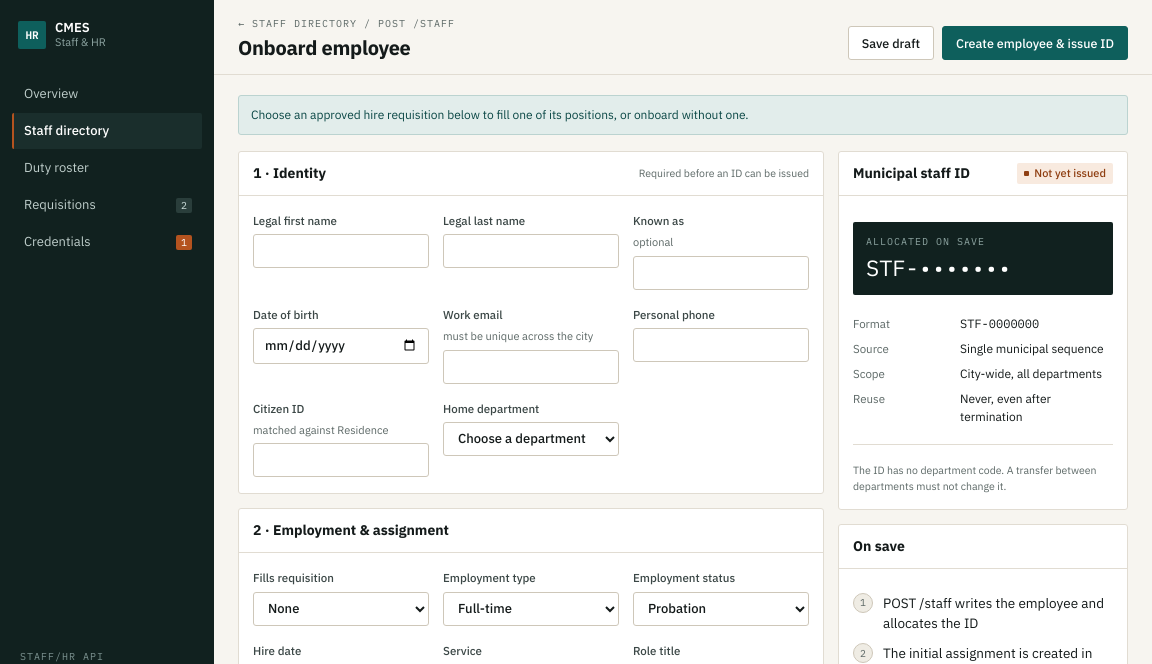
Scenario: CMES Staff & HR frontend › shows the 409 for a work email that is already in use
In the field labelled "Legal first name": (341, 251) [253, 234, 429, 268], type "Des"
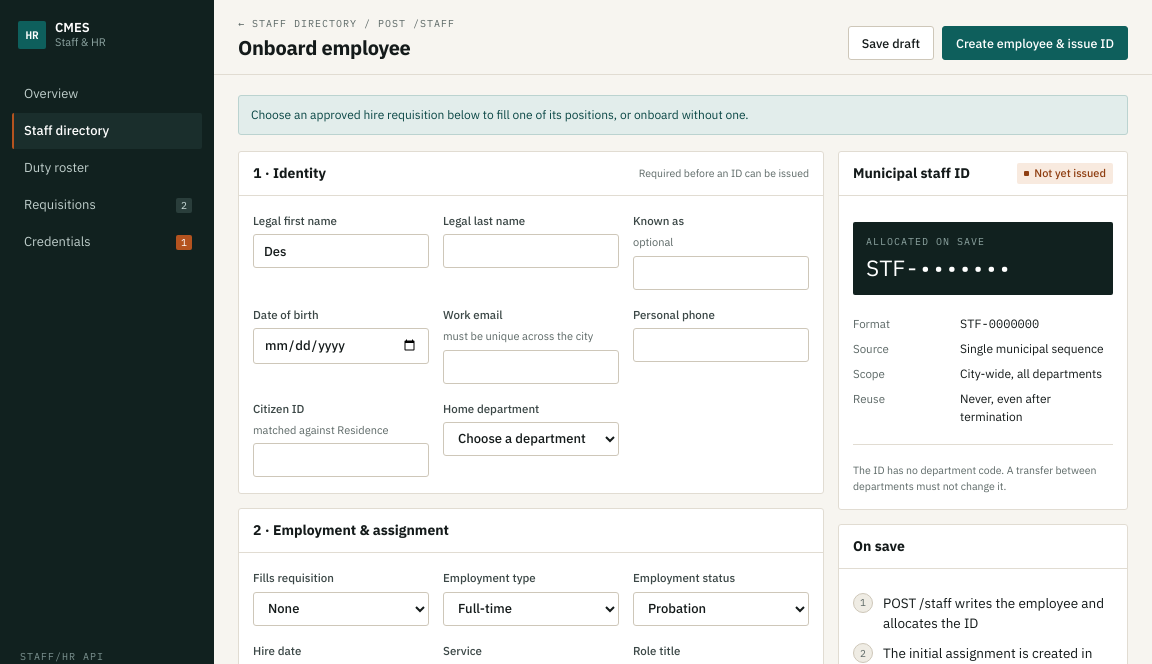
In the field labelled "Legal last name": (531, 251) [443, 234, 619, 268], type "Again"
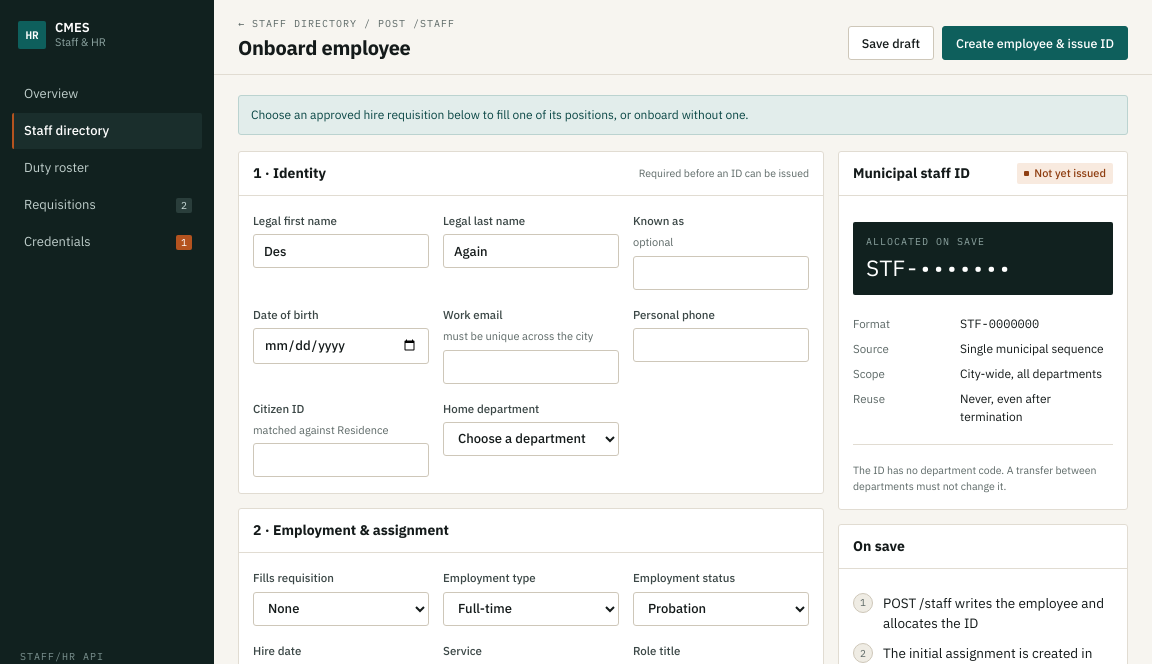
In the date field labelled "Date of birth": (341, 346) [253, 328, 429, 364], type "1990-01-01"
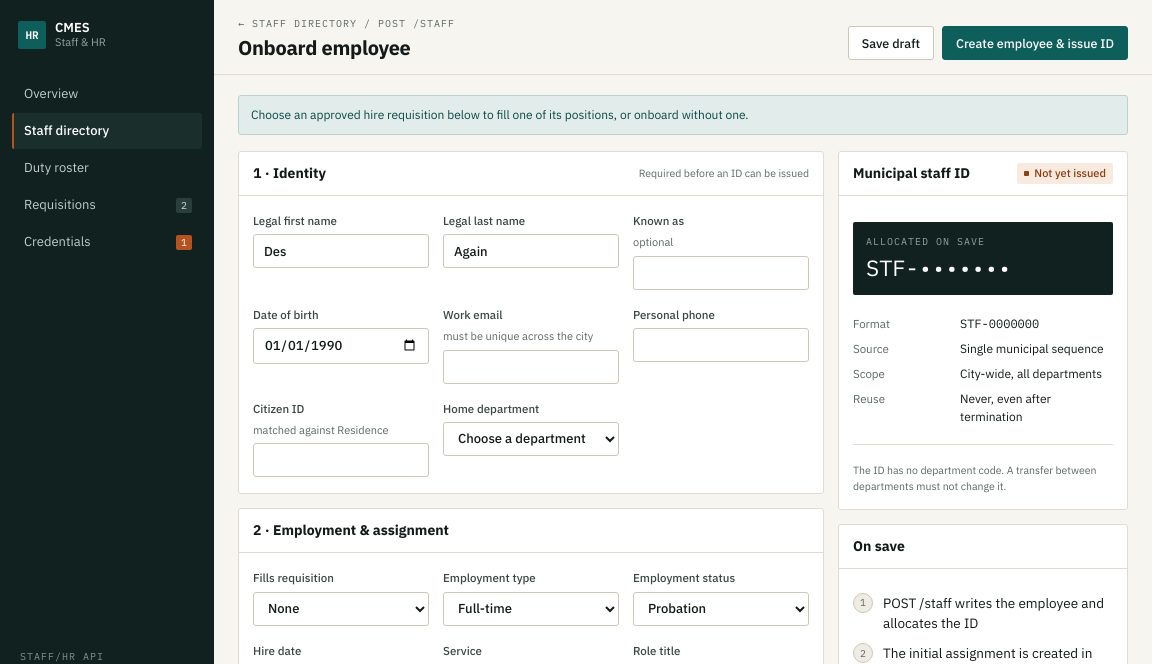
In the field labelled "Work email": (531, 366) [443, 350, 619, 384], type "des@cmes.example"
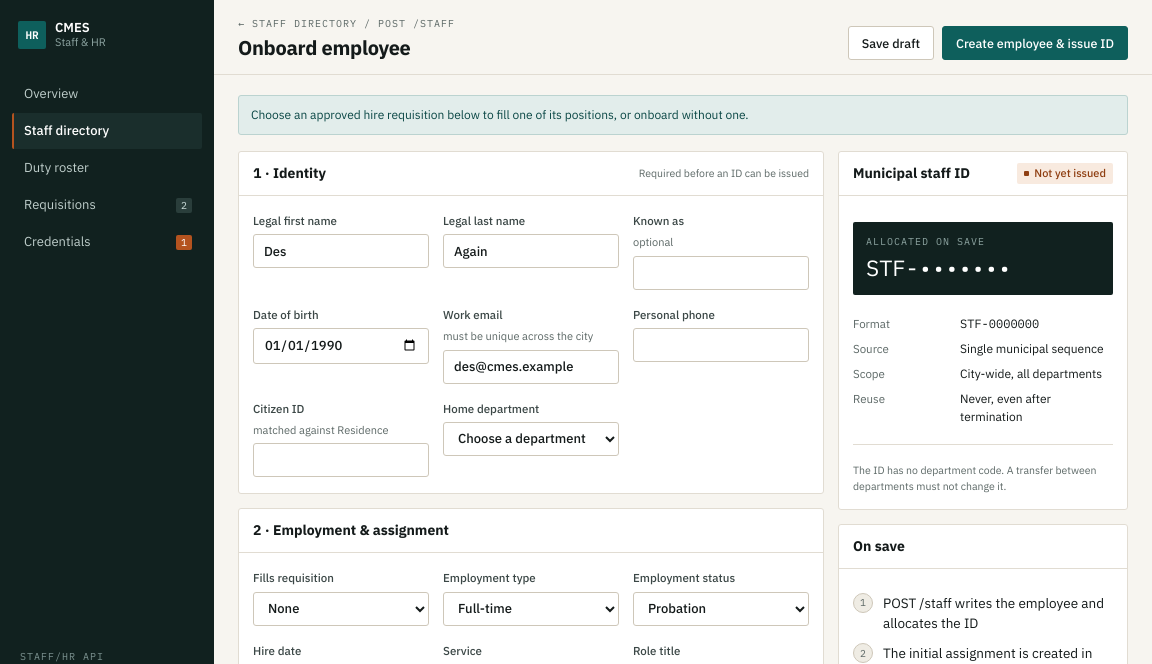
Select "Emergency Services" in the dropdown labelled "Home department": (531, 439) [443, 422, 619, 456]
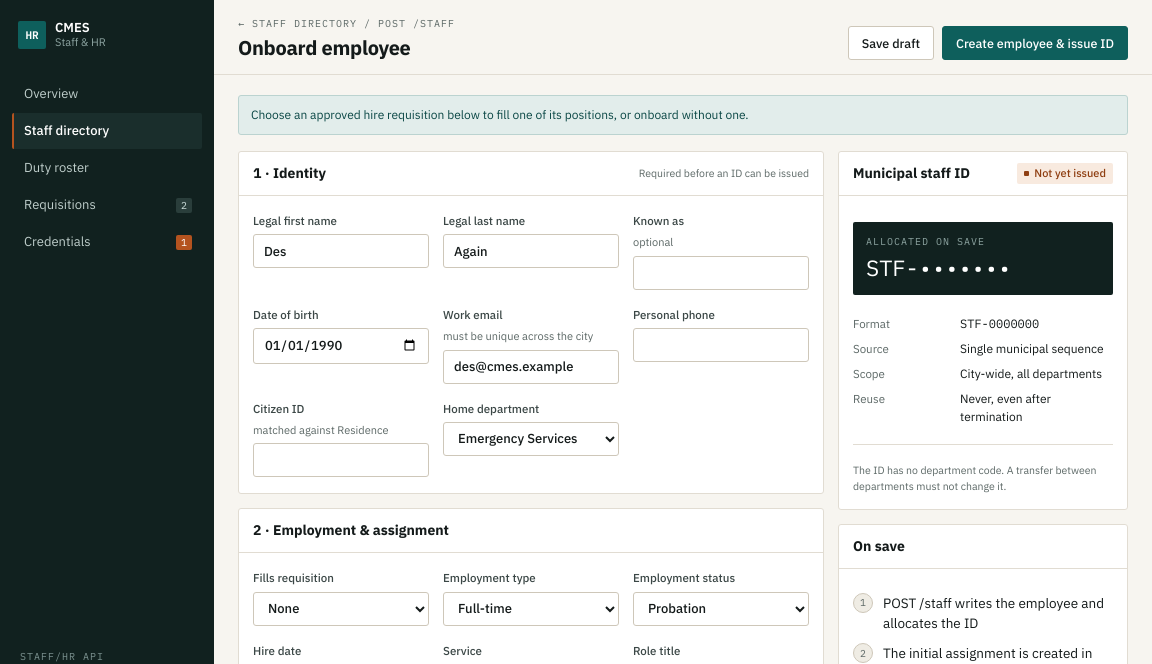
Click the button "Create employee & issue ID": (1035, 43) [942, 26, 1128, 60]
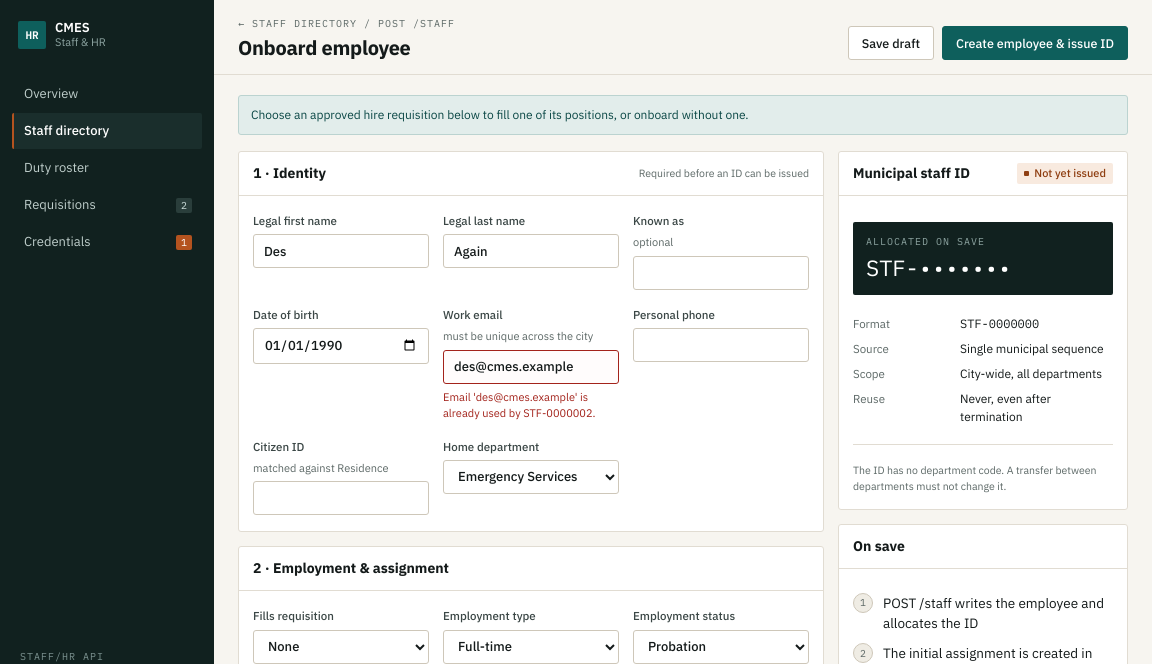
Now the text "Email 'des@cmes.example' is already used by STF-0000002." is shown, box [443, 388, 619, 422]
